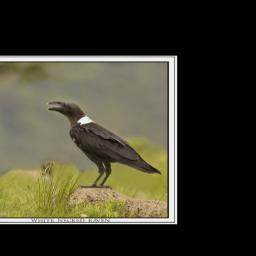Crow: (45, 100, 163, 190)
